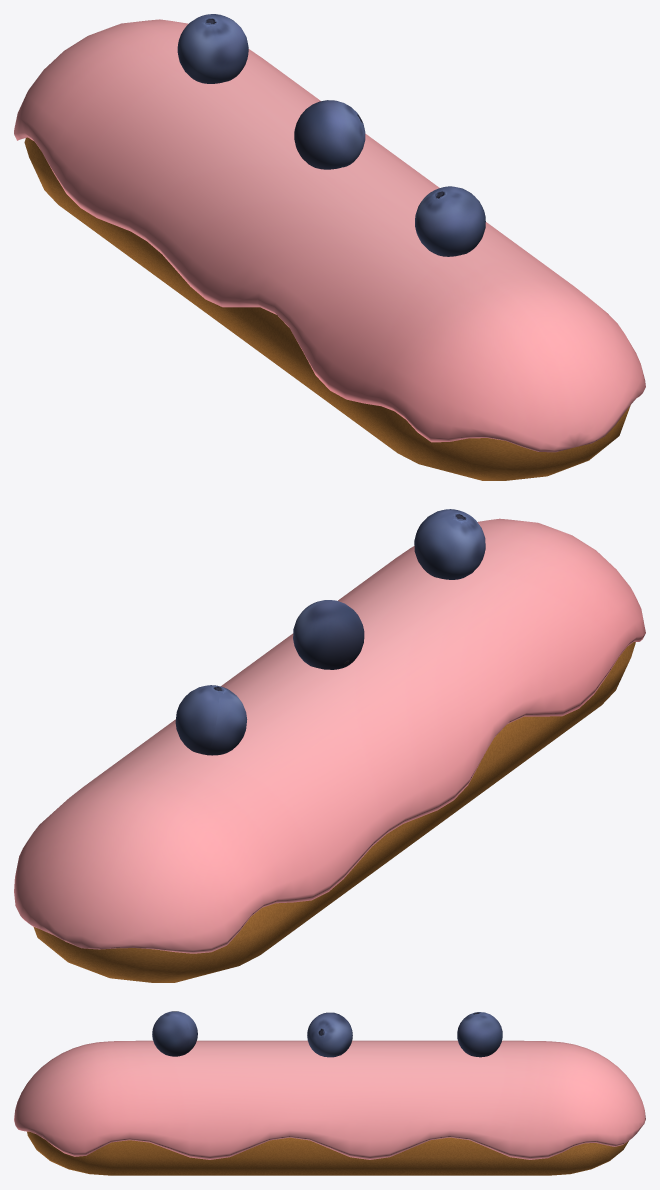
Rendered from eclare 1.fbx.
3 renders of one model, top to bottom at view 1: azimuth 30°, elevation 25°; view 2: azimuth 150°, elevation 25°; view 3: azimuth 270°, elevation 25°, orthographic. The views are drawn at different scales.
Parts seen in each view (by area): view 1: Capsule004, Sphere003, Sphere002, Sphere001; view 2: Capsule004, Sphere003, Sphere001, Sphere002; view 3: Capsule004, Sphere003, Sphere001, Sphere002.
Part boxes in pixels (x1=…): Capsule004: x1=14, y1=19, x2=645, y2=480; Sphere003: x1=415, y1=186, x2=485, y2=256; Sphere002: x1=294, y1=100, x2=365, y2=169; Sphere001: x1=177, y1=14, x2=248, y2=83; Capsule004: x1=14, y1=518, x2=645, y2=982; Sphere003: x1=414, y1=509, x2=485, y2=579; Sphere001: x1=175, y1=685, x2=247, y2=755; Sphere002: x1=293, y1=600, x2=364, y2=669; Capsule004: x1=14, y1=1040, x2=645, y2=1175; Sphere003: x1=152, y1=1011, x2=197, y2=1056; Sphere001: x1=457, y1=1012, x2=502, y2=1057; Sphere002: x1=307, y1=1012, x2=352, y2=1057.
Bounding box in the file's own units: 23.19 × 20.23 × 78.18.
